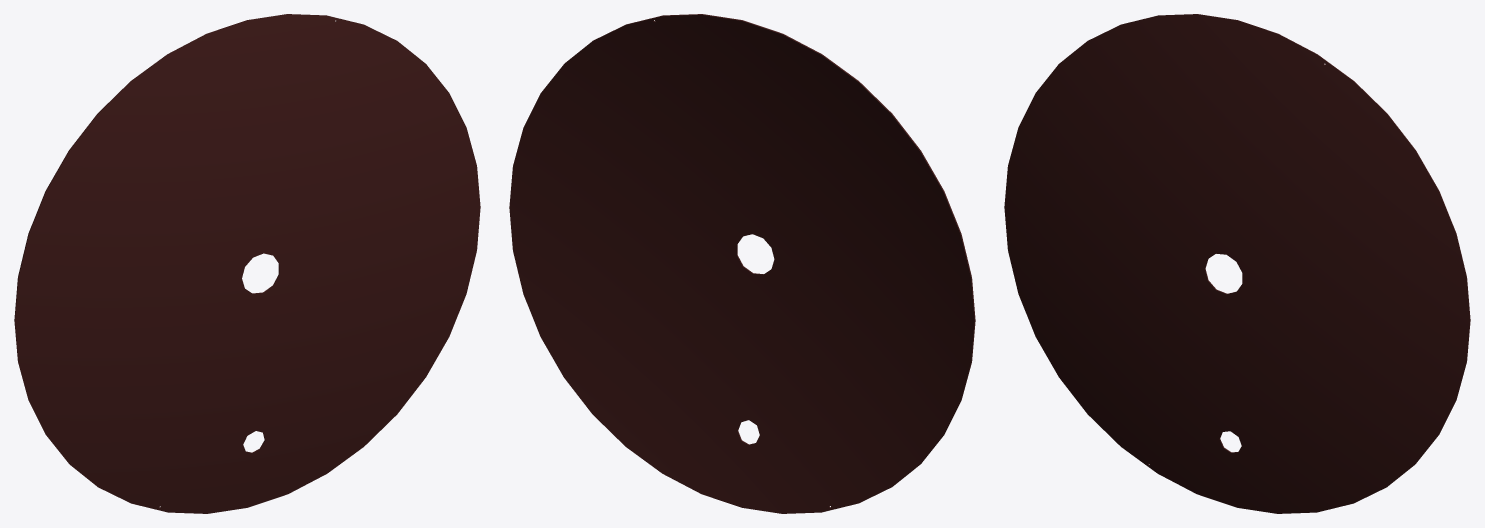
The model's file is Cadran_plaque cuivre.obj.
The picture shows the model from 3 angles, left to right: view 1: azimuth 30°, elevation 25°; view 2: azimuth 150°, elevation 25°; view 3: azimuth 330°, elevation 25°; orthographic projection.
Visible parts, largest first — view 1: Face_1, Face_3; view 2: Face_2, Face_3; view 3: Face_1, Face_3.
Part boxes in pixels (x1=…): Face_1: x1=15, y1=14, x2=480, y2=513; Face_3: x1=14, y1=14, x2=326, y2=434; Face_2: x1=509, y1=15, x2=974, y2=513; Face_3: x1=564, y1=14, x2=975, y2=502; Face_1: x1=1004, y1=14, x2=1469, y2=513; Face_3: x1=1158, y1=14, x2=1470, y2=434.
Size of the model in its own units: 0.25 by 0.25 by 0.0131.
